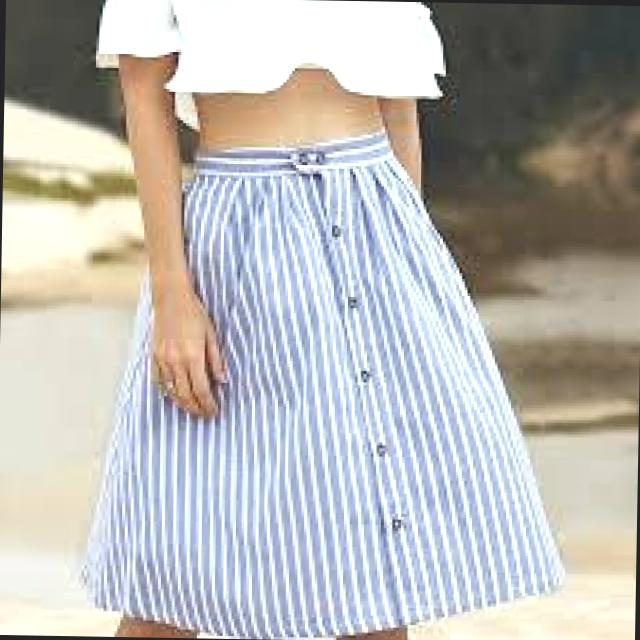skirt: (78, 125, 579, 640)
